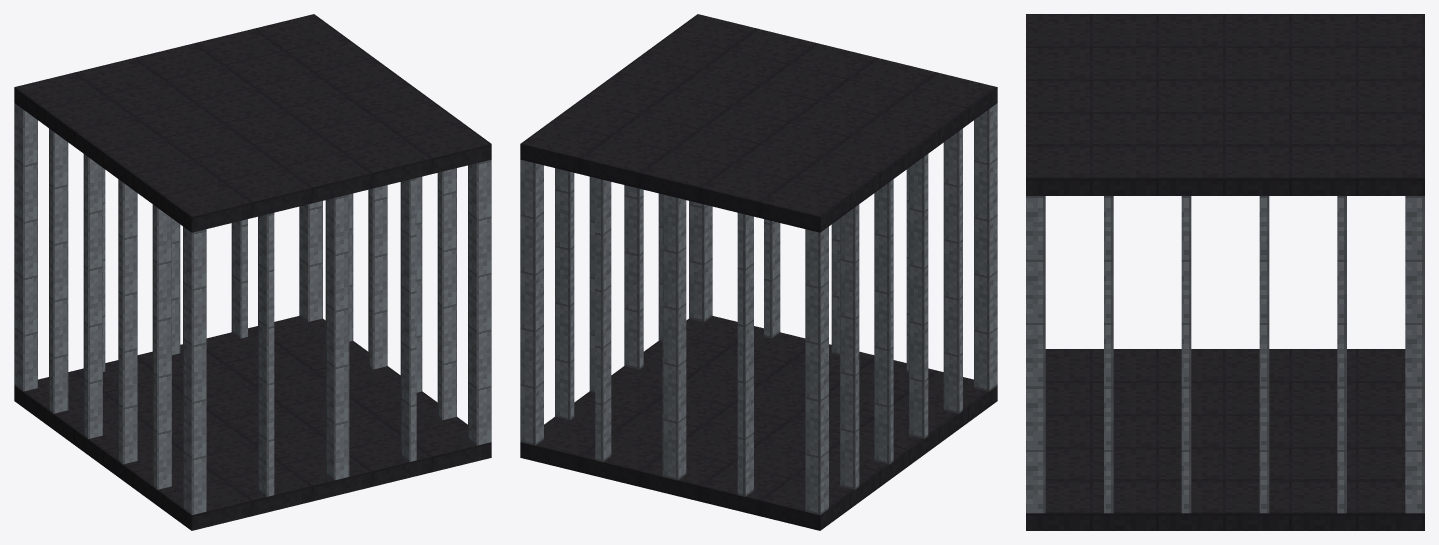
File: dungeonCage.glb
3 views of the same model, side by side, from view 1: azimuth 30°, elevation 25°; view 2: azimuth 150°, elevation 25°; view 3: azimuth 270°, elevation 25° (orthographic). The views are drawn at different scales.
Parts seen in each view (by area): view 1: dungeonCage_0; view 2: dungeonCage_0; view 3: dungeonCage_0.
Boxes of the visible parts, left/top/right/bottom form: dungeonCage_0: left=14, top=14, right=491, bottom=530; dungeonCage_0: left=520, top=14, right=997, bottom=530; dungeonCage_0: left=1026, top=14, right=1424, bottom=530.
Bounding box in the file's own units: 2.5 × 2.5 × 2.56.
1 material, 1 textured.
